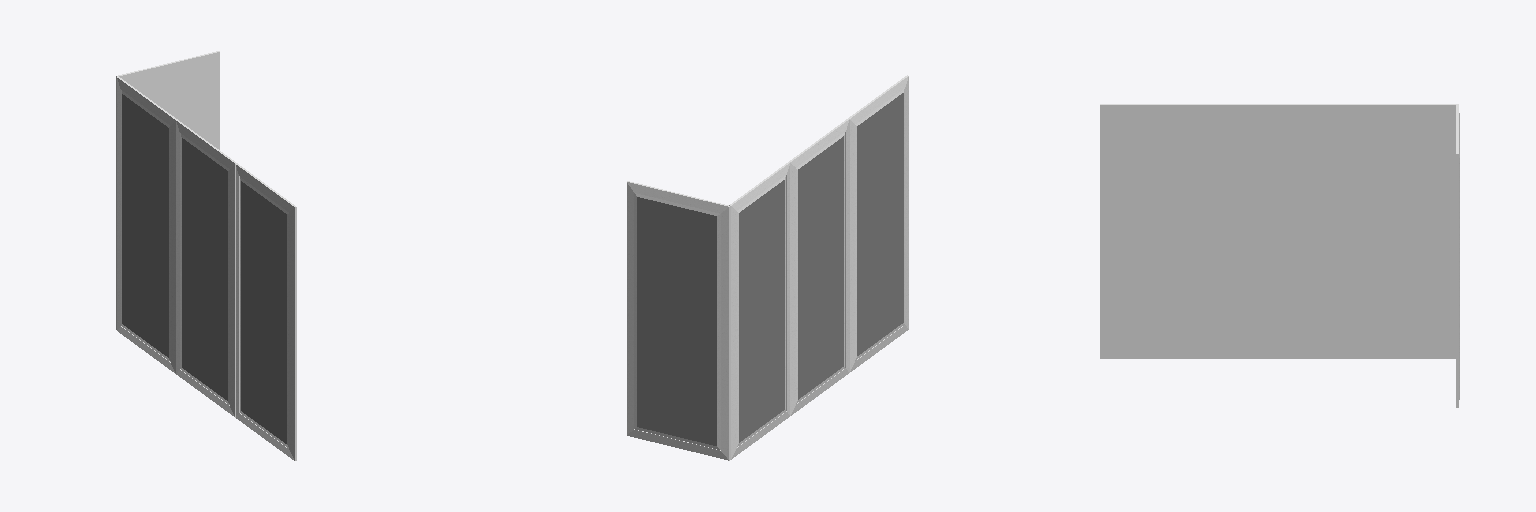
The picture shows the model from 3 angles: view 1: azimuth 30°, elevation 25°; view 2: azimuth 150°, elevation 25°; view 3: azimuth 270°, elevation 25°; orthographic projection.
Parts seen in each view (by area): view 1: vestidor; view 2: vestidor; view 3: vestidor.
Boxes of the visible parts, x1,y1,x2,y2 form: vestidor: [116, 51, 296, 460]; vestidor: [627, 75, 908, 460]; vestidor: [1100, 104, 1459, 407].
Size of the model in its own units: 11.3 by 26.31 by 33.78.
Materials: 3 (1 with a texture image).